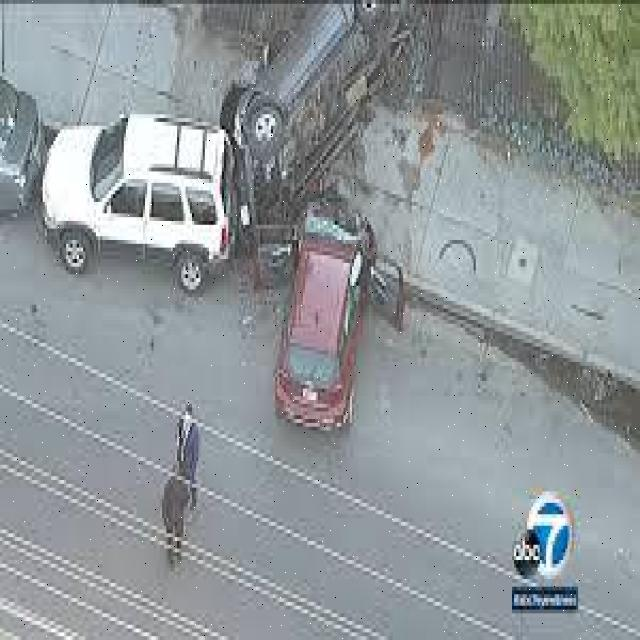severe: (220, 2, 420, 436)
